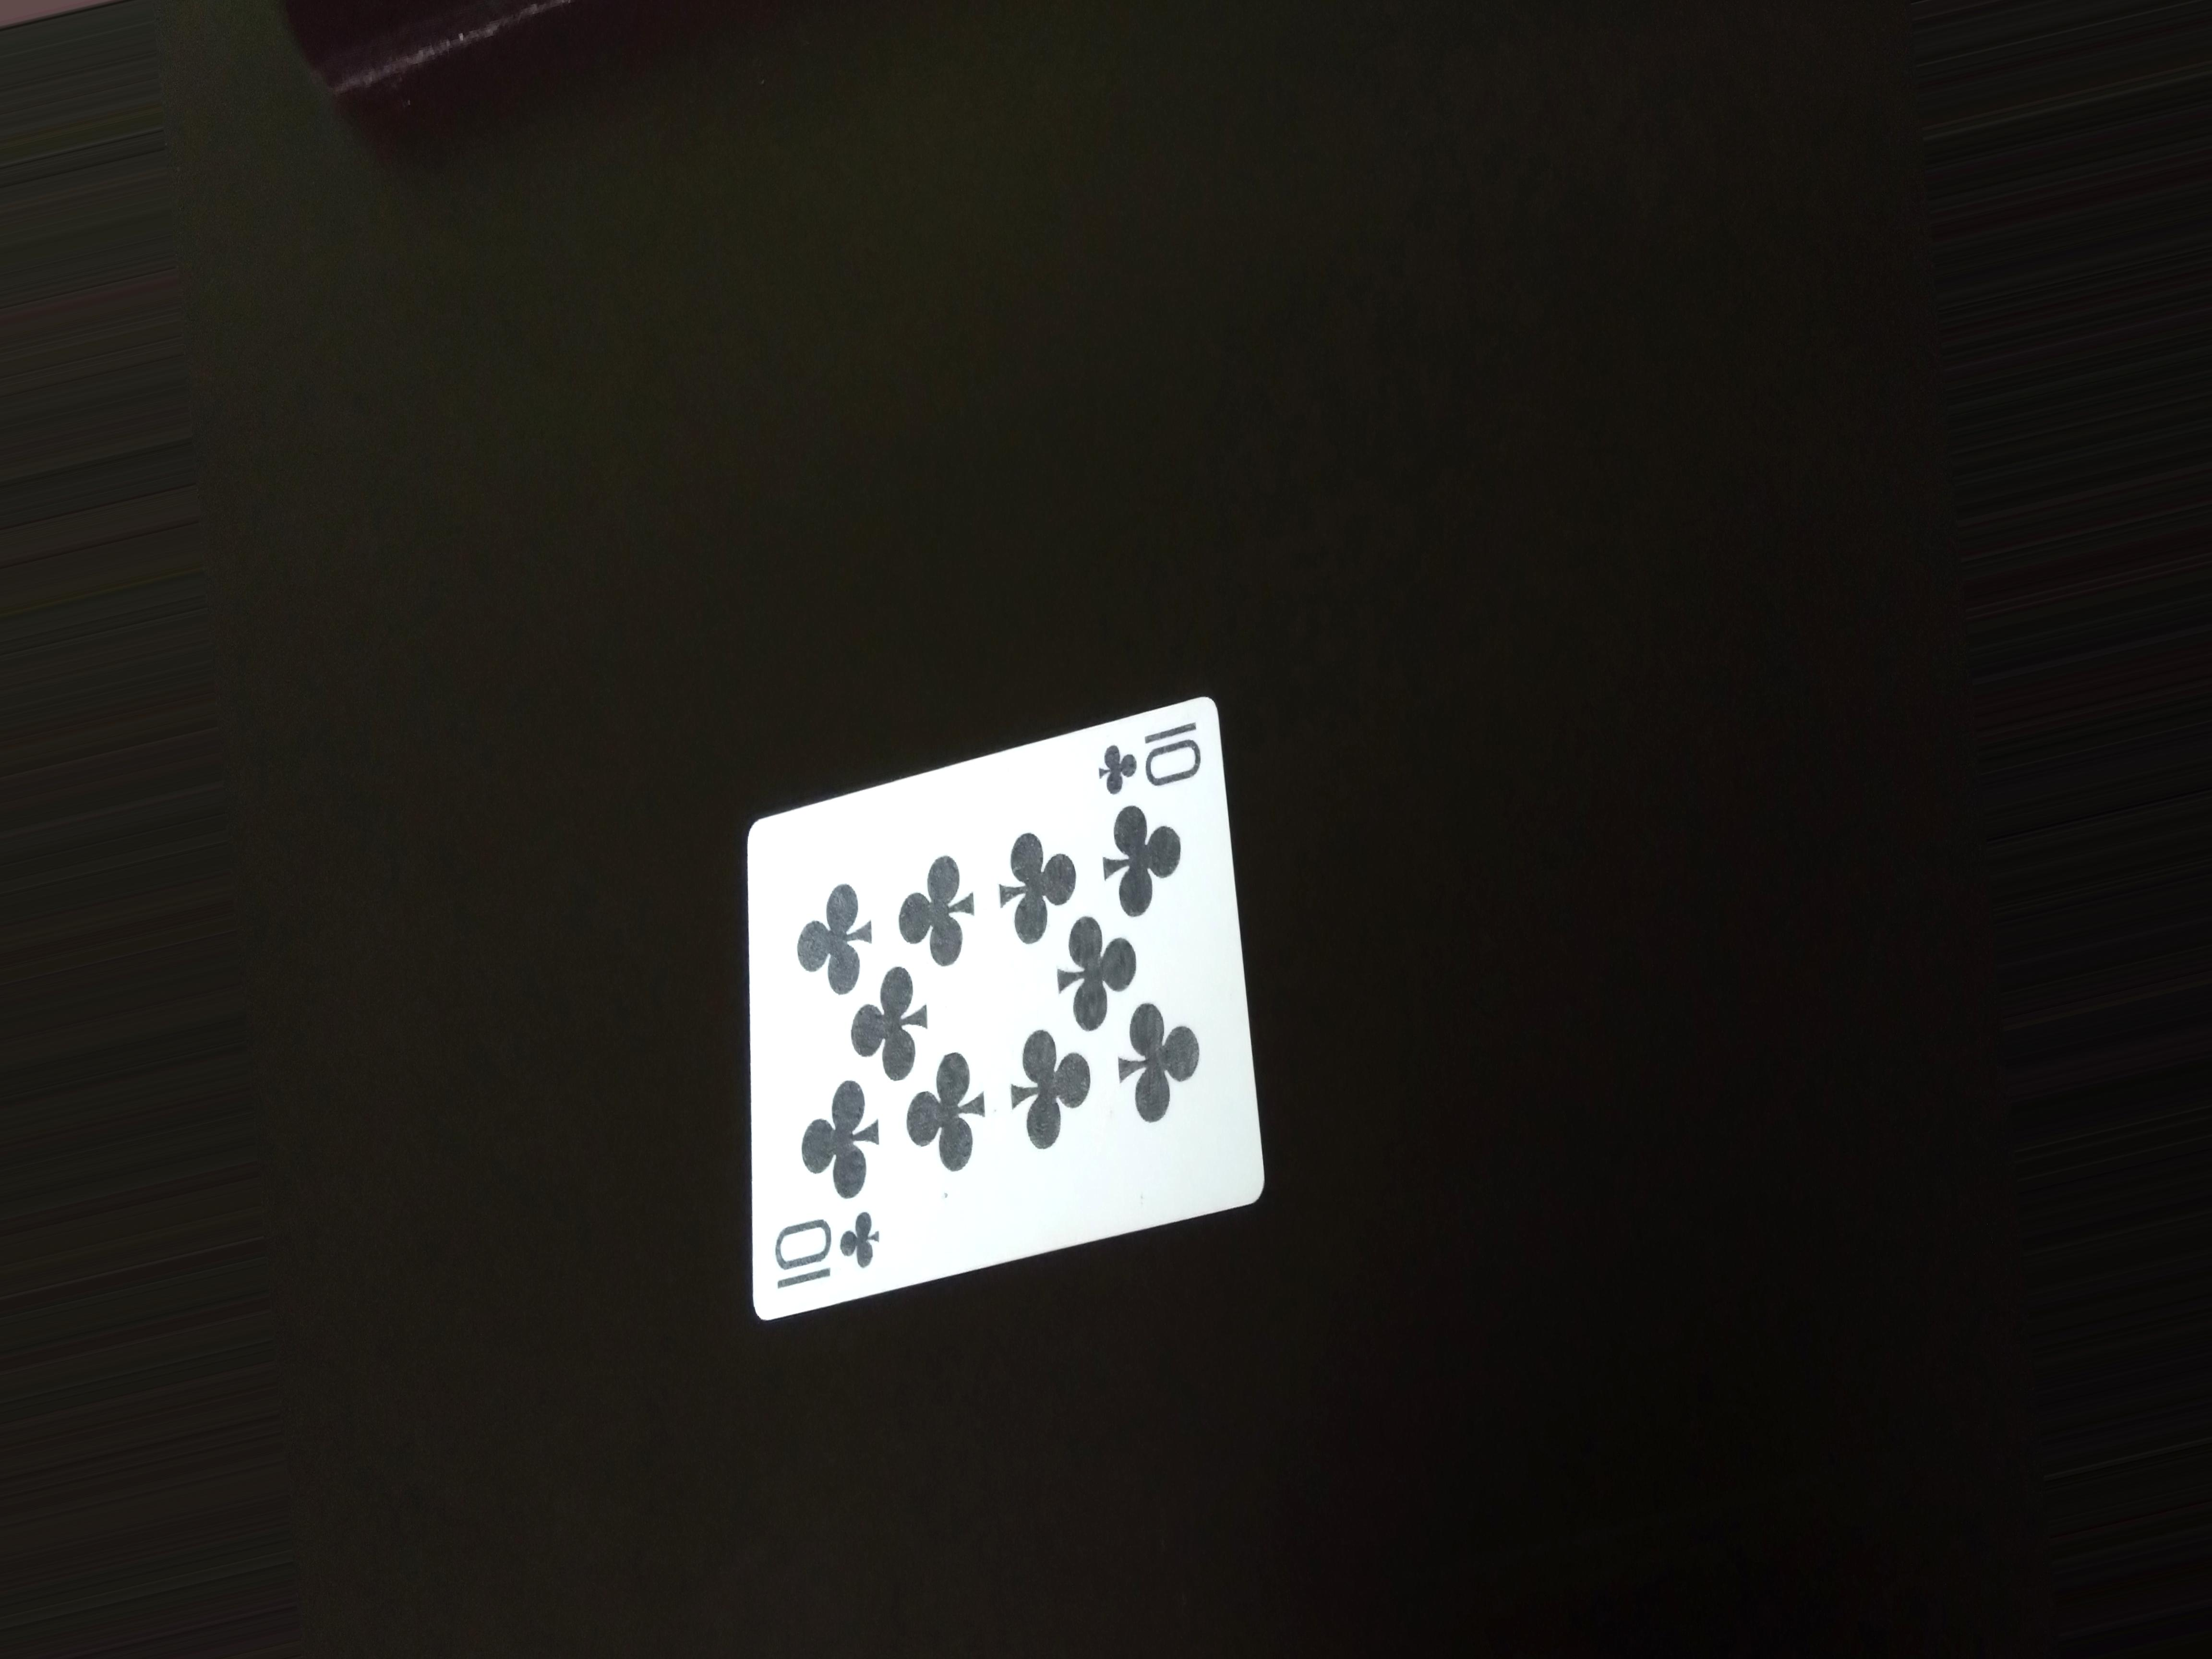10C: (765, 1204, 916, 1291)
